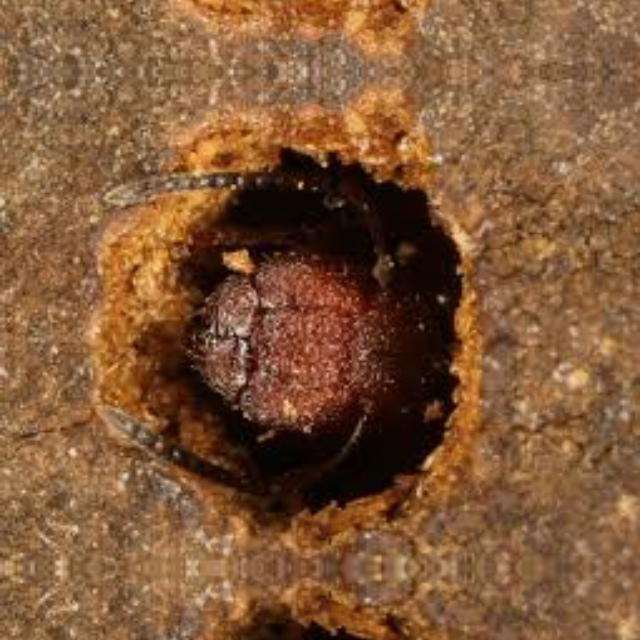Colobopsis: (70, 120, 464, 488)
